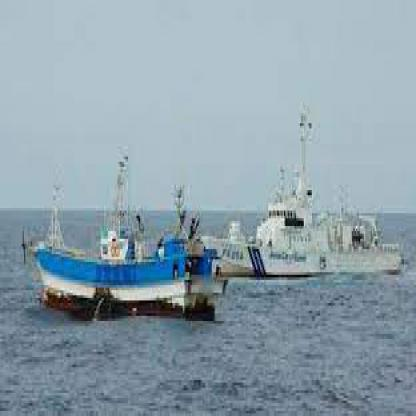fish-b: (203, 92, 412, 293), (13, 146, 232, 336)
